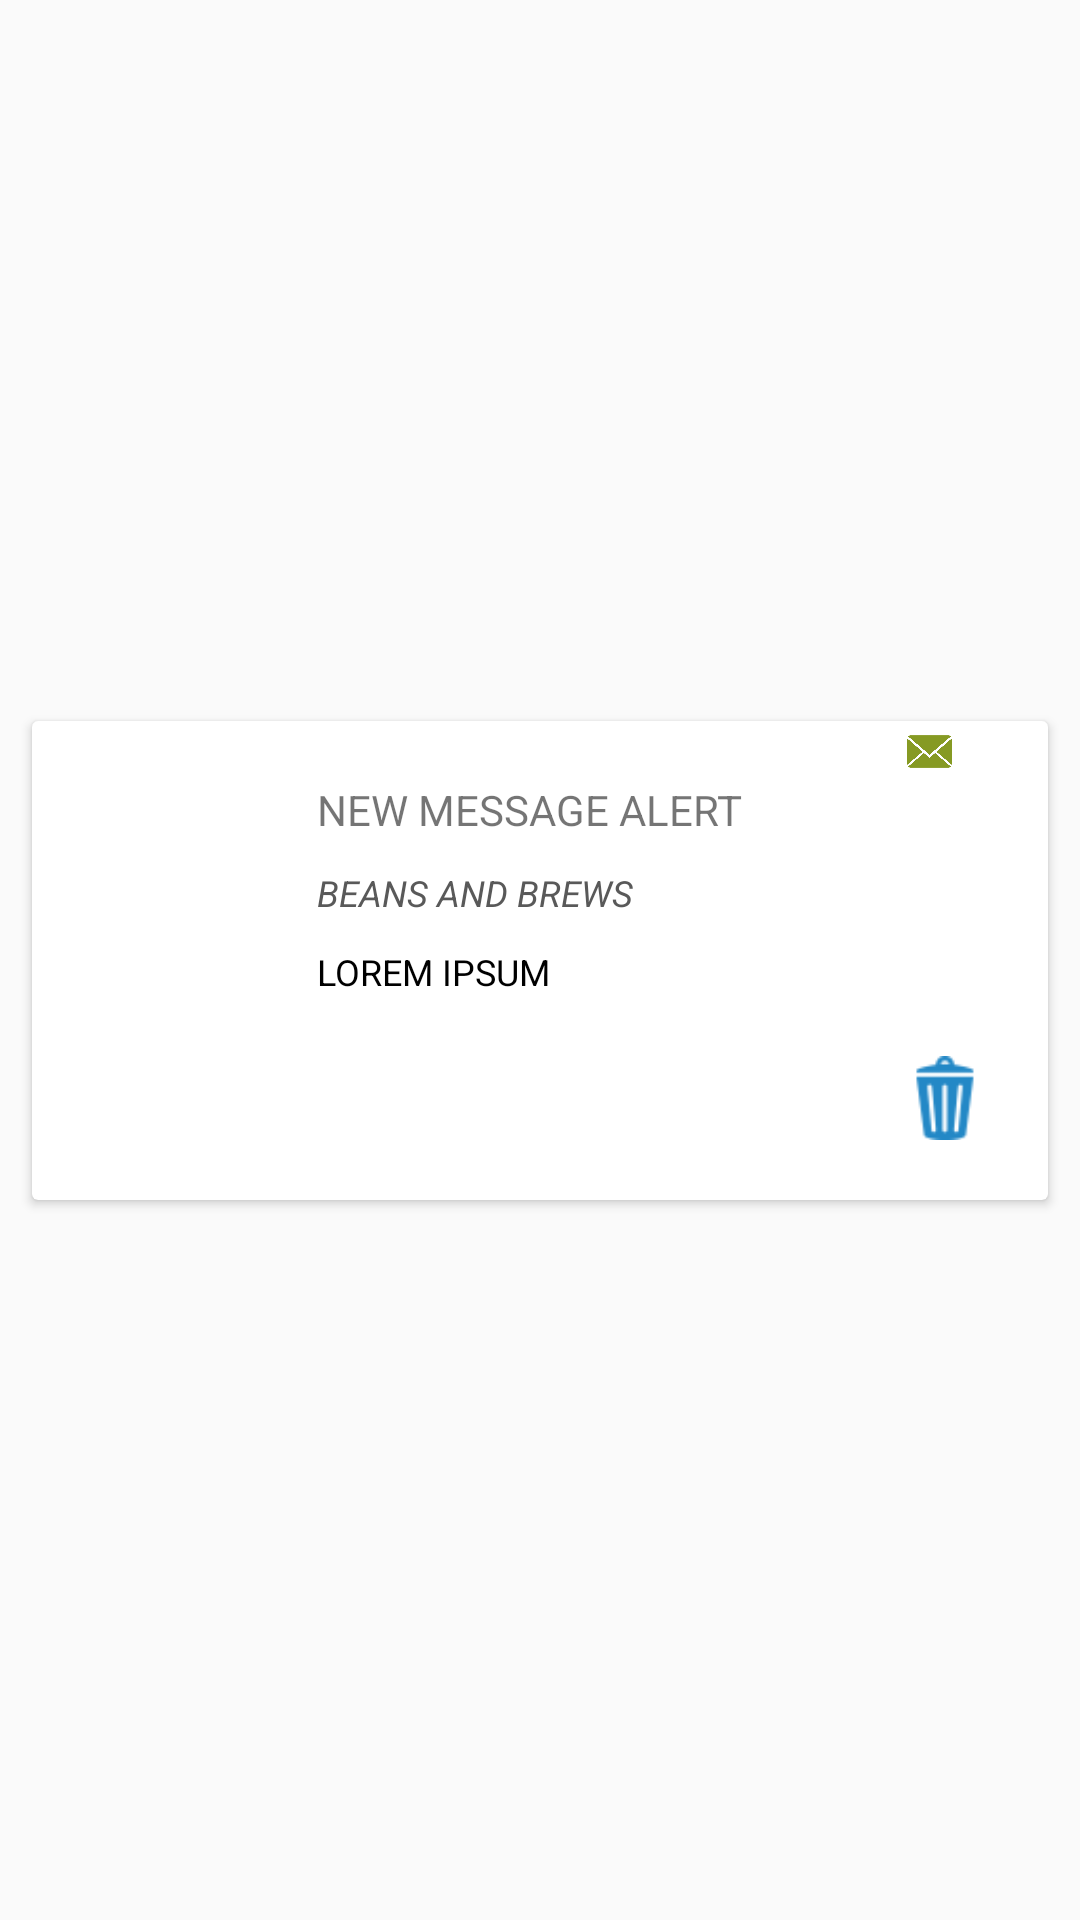

Icons on this 1080px×1920px Android screen, each with the point to tap as [x,y]:
traschcan: [945,1098]
